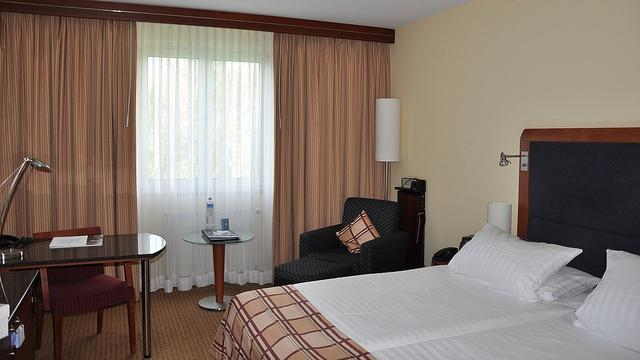Kursi: (38, 258, 136, 358)
Meja: (0, 231, 167, 285)
